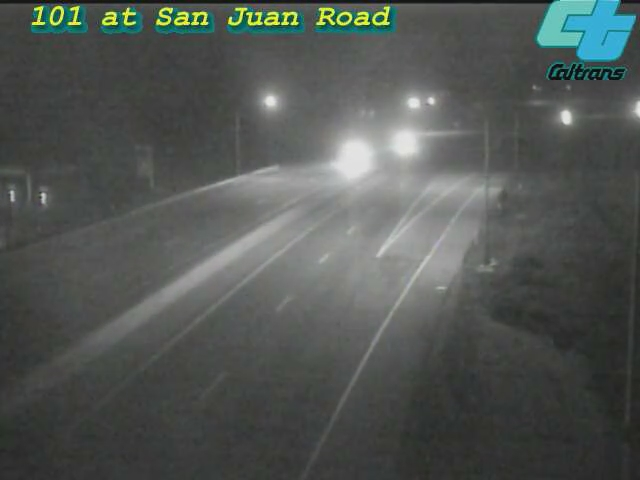vehicle: (321, 130, 371, 180), (376, 117, 426, 167), (540, 93, 590, 143)
